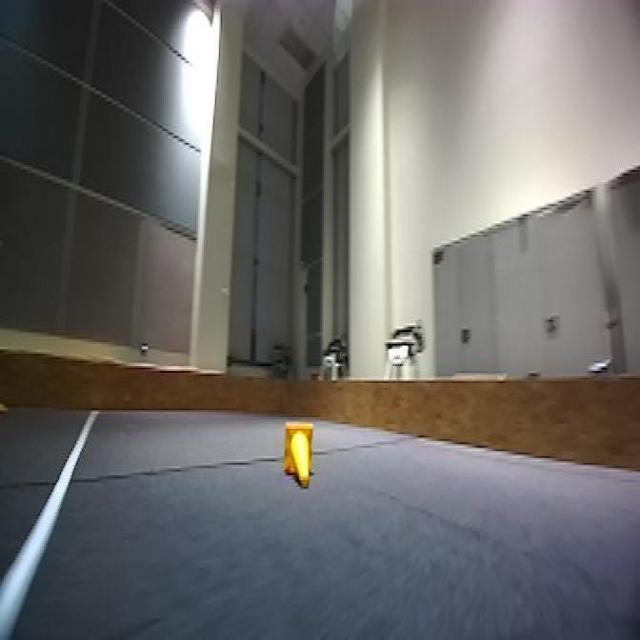frc_cone: (281, 418, 316, 488)
